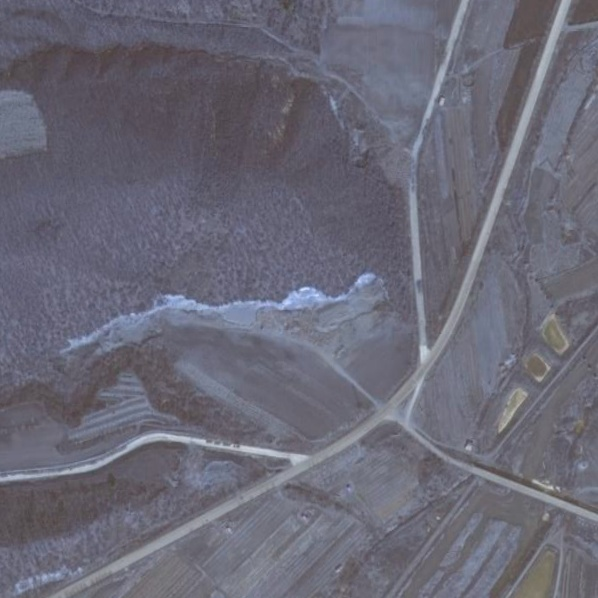slope: (56, 269, 396, 362)
